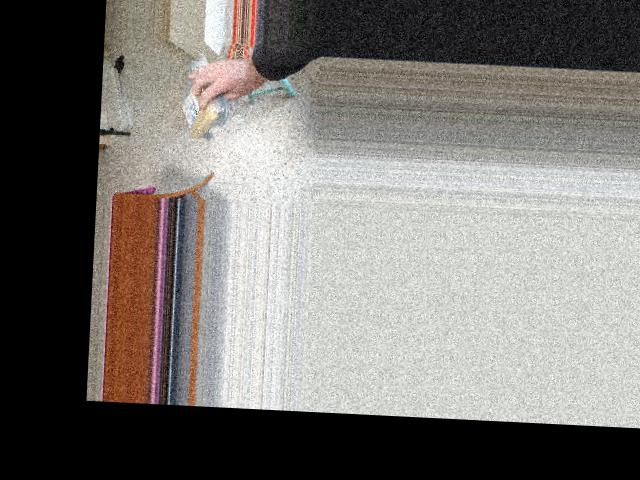cheese: (178, 76, 223, 142)
